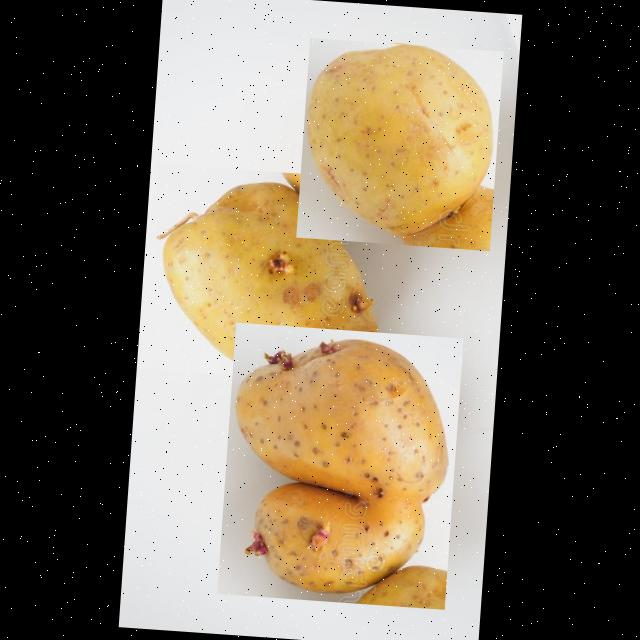Potato: (296, 36, 503, 250)
Sprouted potato: (217, 321, 463, 608), (140, 162, 388, 384)
